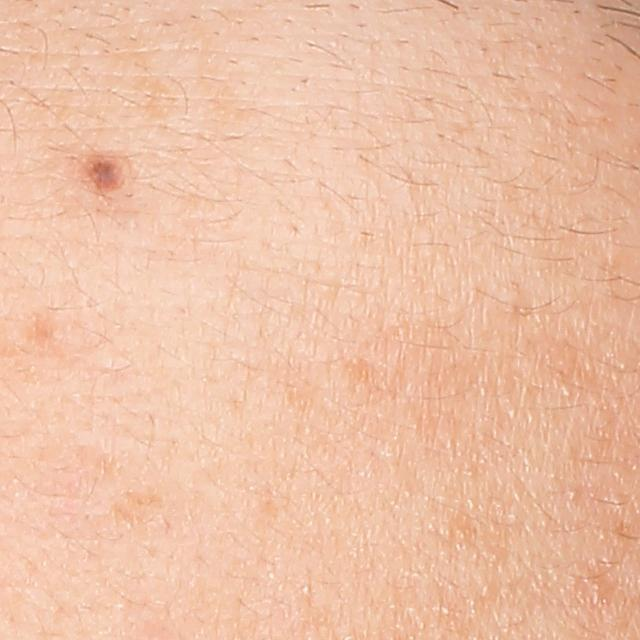nevus: (84, 154, 129, 193)
